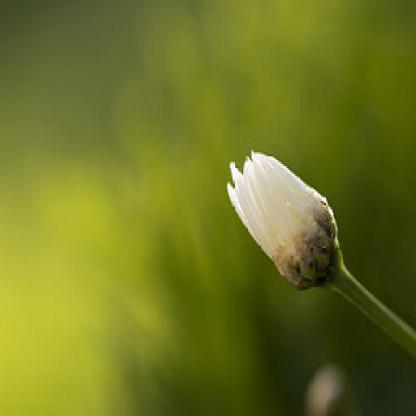ASTER: (204, 73, 368, 325)
